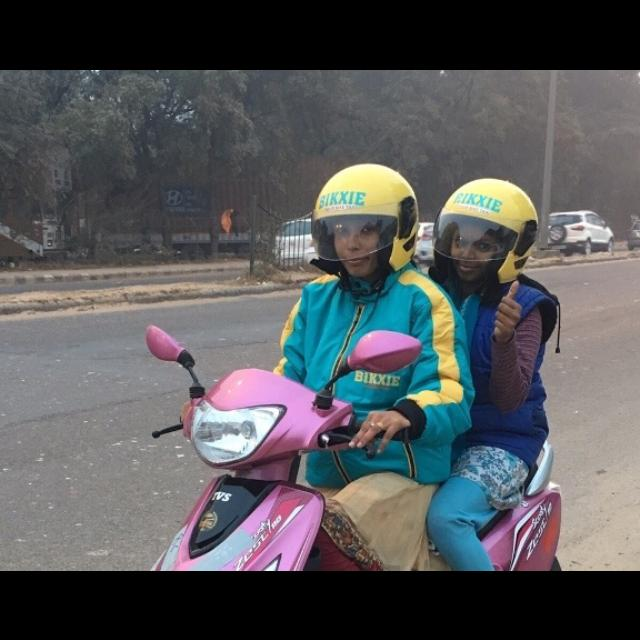With Helmet: (306, 155, 422, 279)
